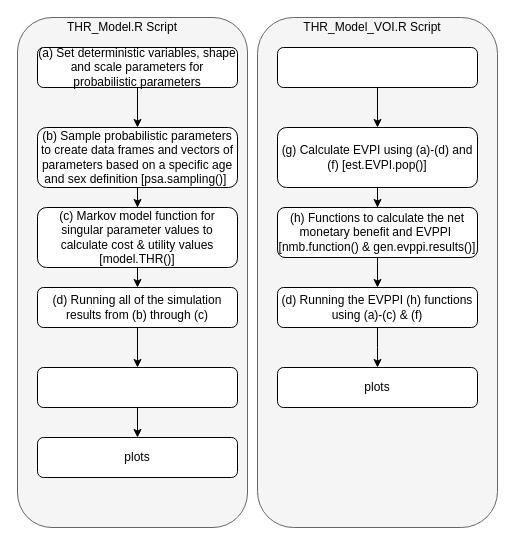
This 515x545 diagram has some shape labels left out. Here are the shapes that lost their labels. From the top down, the centre of each, then its label:
the point at 377,67: (f) Set VOI population parameters and WTP values
the point at 137,387: (e) Running (b) - (d) across different age and sex subgroup definitions
